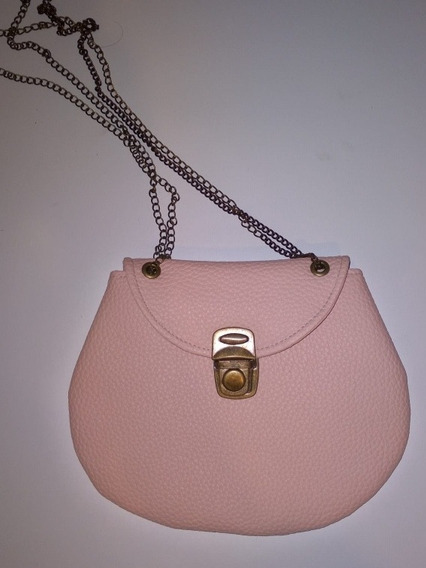cartera: (61, 252, 412, 540)
